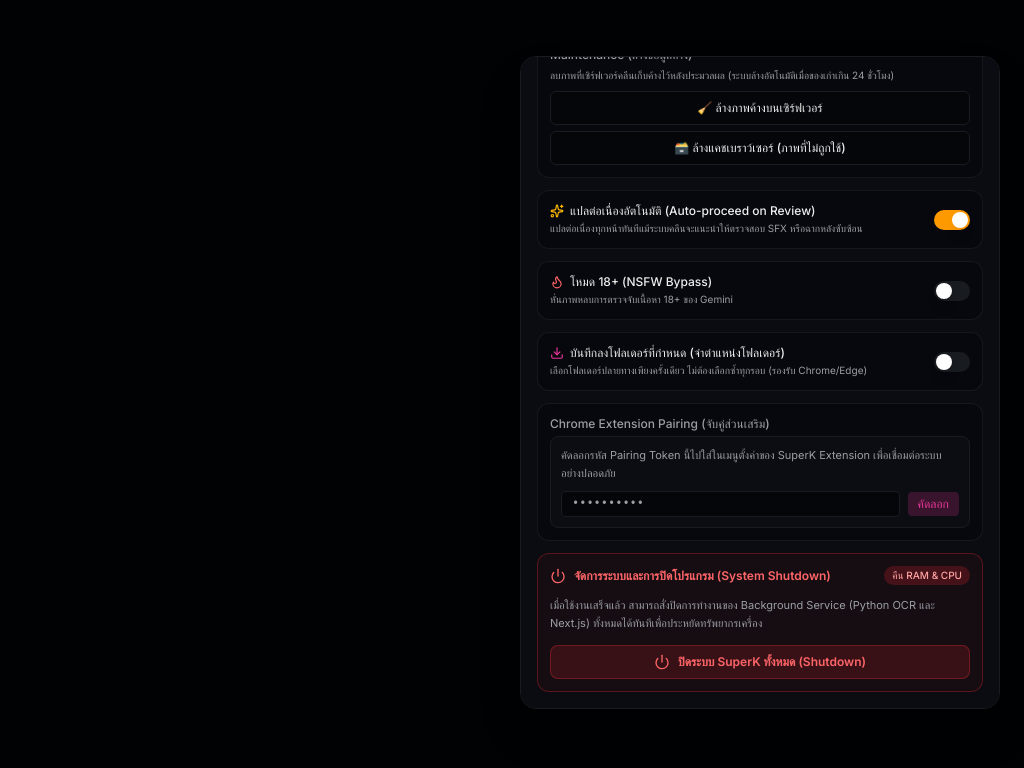
Test: SettingsModal System Shutdown Feature › cancels confirmation when clicking cancel
(page scrolled)
Click the button "ปิดระบบ SuperK ทั้งหมด (Shutdown)" at x=760, y=662, box [550,645,970,679]
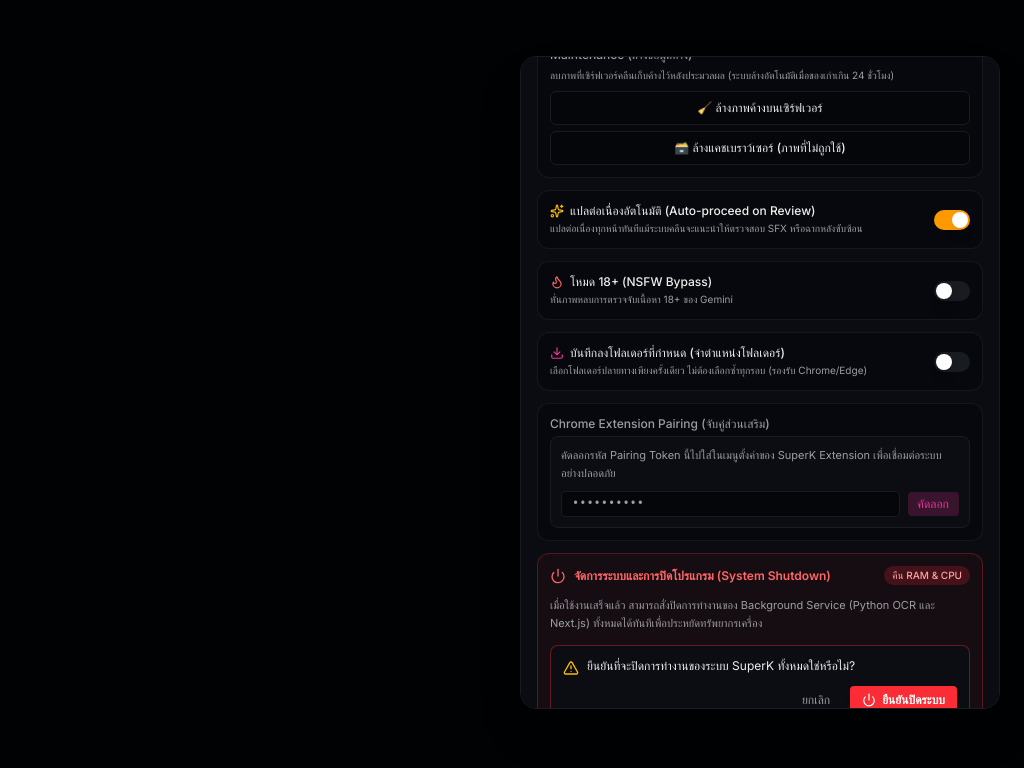
Click the button "ยกเลิก" at x=816, y=700, box [790,686,842,714]
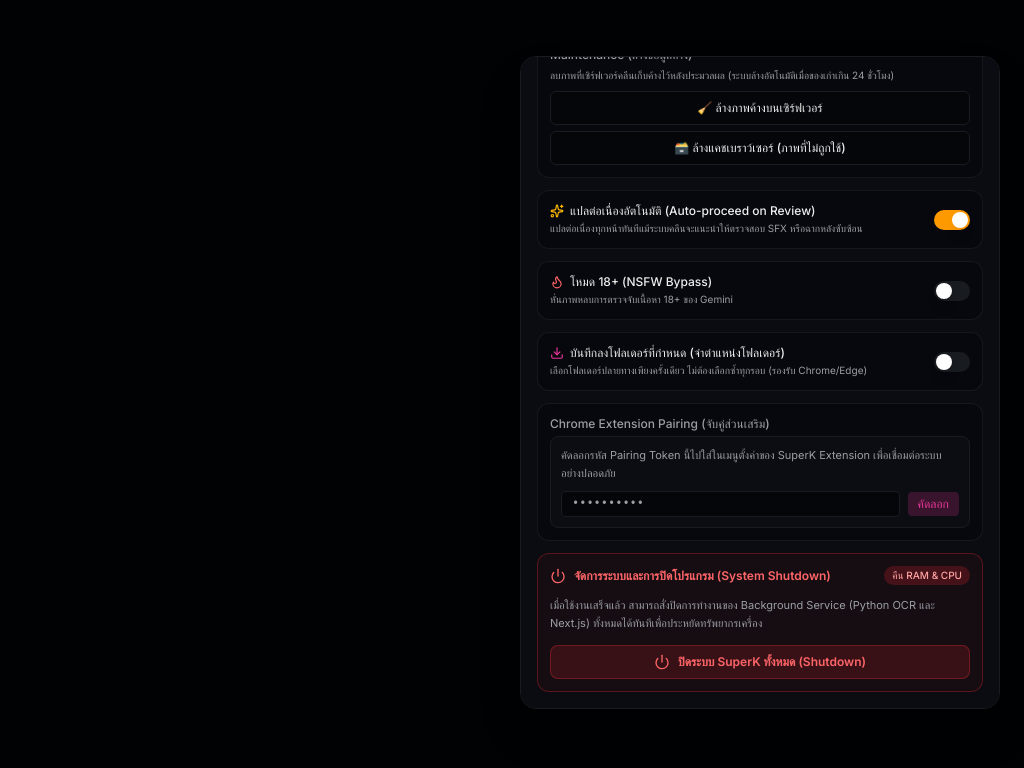
Expected: the text "ยืนยันที่จะปิดการทำงานของระบบ SuperK ทั้งหมดใช่หรือไม่" is gone
Expected: the button "ปิดระบบ SuperK ทั้งหมด (Shutdown)" is shown, [550,645,970,679]
